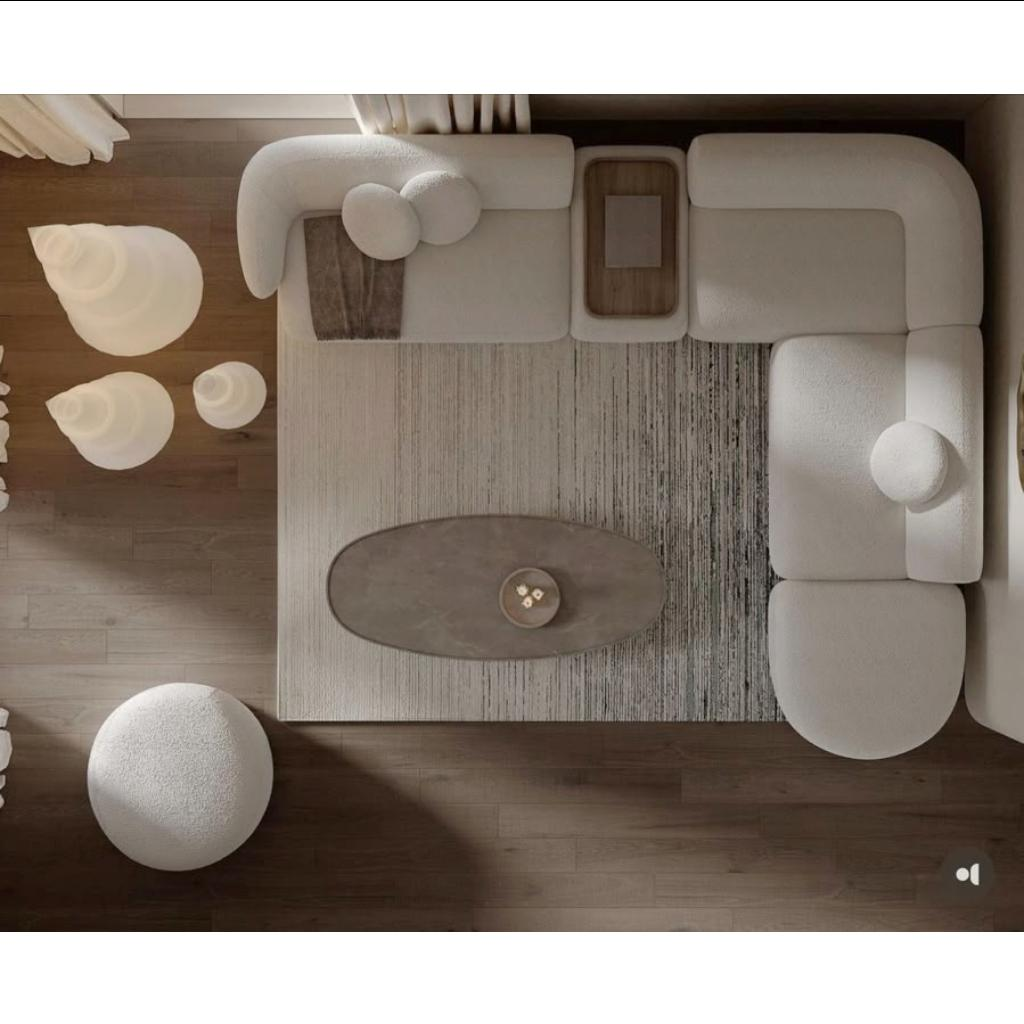coffee table: (326, 514, 674, 662)
floor vase: (26, 224, 198, 352), (43, 368, 175, 470), (195, 362, 267, 430)
ottoman: (84, 678, 268, 870)
rug: (277, 166, 933, 722)
sofa: (235, 130, 983, 338), (768, 343, 986, 759)
